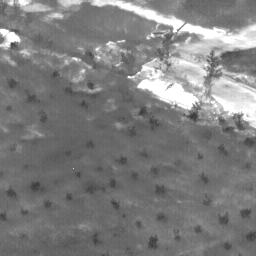aircraft: (174, 30, 176, 32)
